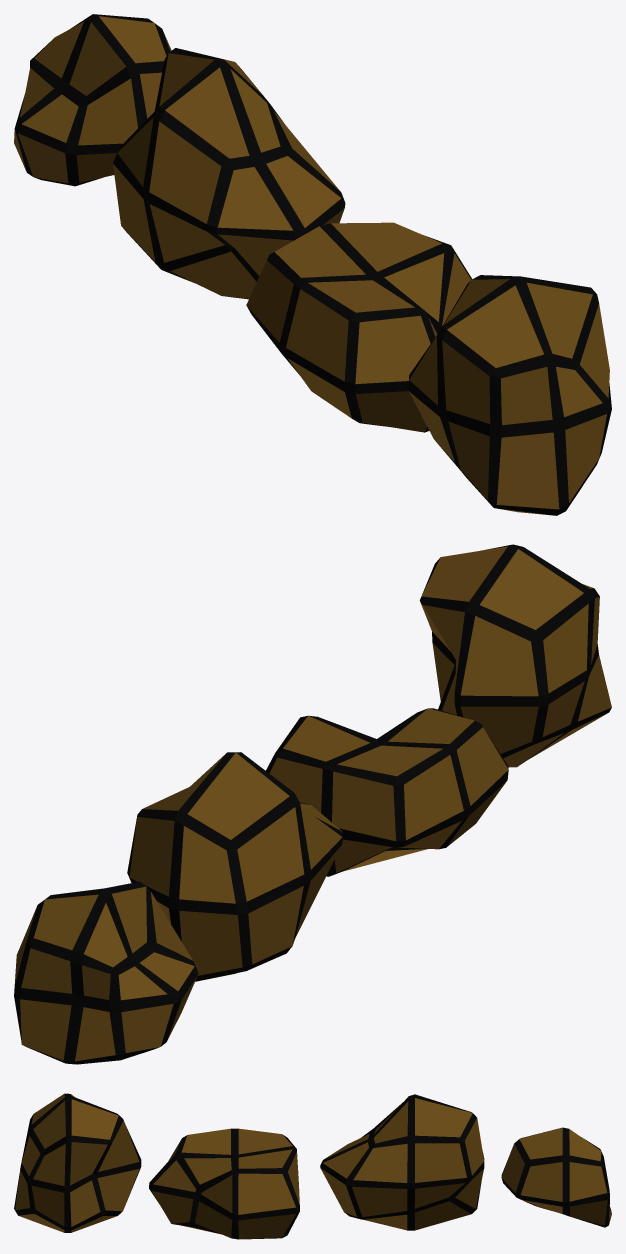
Rendered from E_Stones.fbx.
3 views of the same model, one above another, from view 1: azimuth 30°, elevation 25°; view 2: azimuth 150°, elevation 25°; view 3: azimuth 270°, elevation 25° (orthographic). The views are drawn at different scales.
Visible parts, largest first — view 1: Cube.017; view 2: Cube.017; view 3: Cube.017.
Boxes of the visible parts, bbox=[...] form: Cube.017: bbox=[14, 14, 611, 515]; Cube.017: bbox=[14, 544, 611, 1064]; Cube.017: bbox=[14, 1093, 611, 1239].
Size of the model in its own units: 60.66 by 66.79 by 267.
